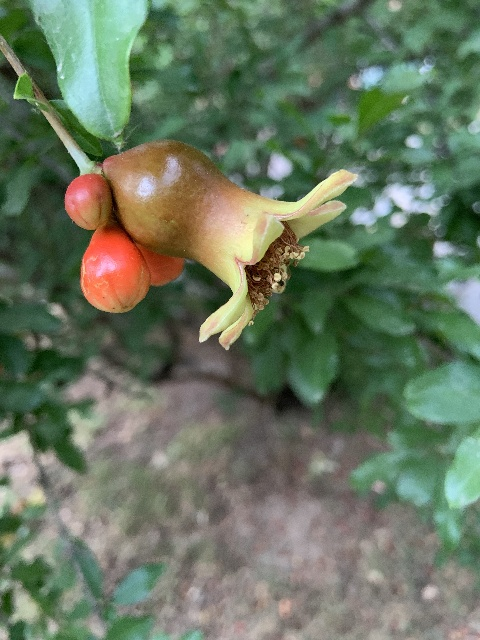bud: (80, 223, 146, 313), (65, 173, 112, 230), (131, 238, 185, 286)
early-fruit: (106, 140, 356, 350)
